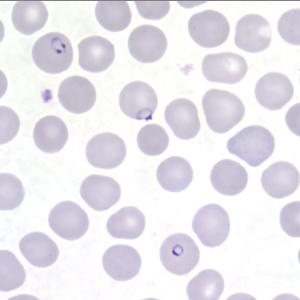Infected: (32, 32, 73, 73), (159, 234, 199, 274), (119, 80, 157, 120)
Uninfected: (226, 125, 275, 168), (202, 89, 245, 133), (202, 51, 249, 85), (49, 201, 89, 240), (192, 205, 229, 247), (188, 10, 229, 47), (85, 133, 127, 169), (57, 76, 96, 114), (164, 99, 201, 139), (255, 72, 293, 110), (81, 175, 121, 211), (128, 25, 166, 62), (235, 14, 272, 52), (77, 36, 115, 73), (102, 245, 141, 281), (261, 162, 298, 199), (20, 232, 58, 268), (211, 160, 247, 197), (156, 156, 193, 192), (33, 116, 68, 153), (106, 207, 145, 240), (11, 1, 48, 34), (95, 2, 132, 31), (137, 124, 169, 156), (188, 270, 223, 299), (0, 251, 25, 291), (0, 173, 25, 210), (277, 8, 298, 45), (279, 201, 300, 237), (1, 107, 21, 144), (135, 2, 169, 21)
